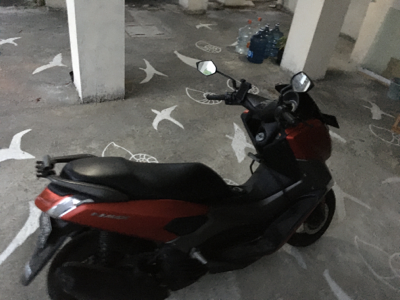moto: (30, 57, 340, 300)
